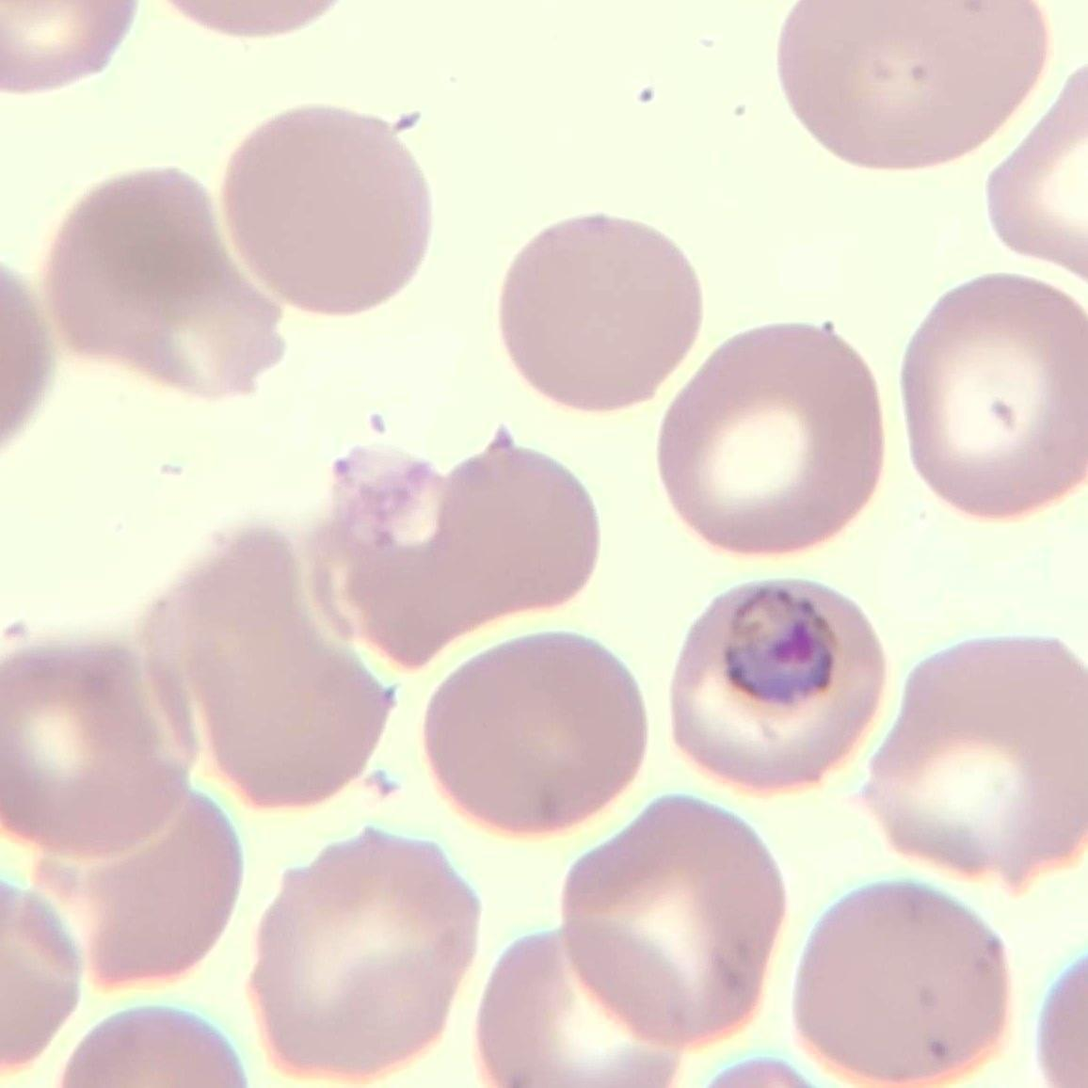Infected: (670, 580, 889, 796)
Uninfected: (158, 522, 387, 811), (329, 445, 597, 671), (853, 637, 1088, 887), (40, 168, 283, 394), (559, 800, 782, 1042), (655, 326, 884, 556), (258, 834, 473, 1073), (17, 787, 249, 987), (900, 279, 1088, 523), (772, 0, 1045, 168), (220, 102, 433, 315), (422, 637, 645, 833), (0, 633, 190, 851), (795, 886, 1008, 1079), (497, 217, 707, 412), (484, 923, 686, 1088)
